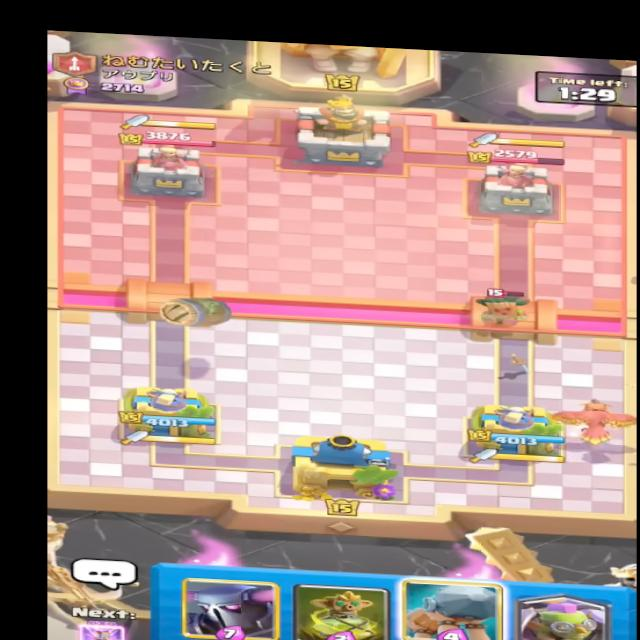dart-goblin: (477, 281, 534, 327)
goblin-barrel: (150, 282, 238, 333)
